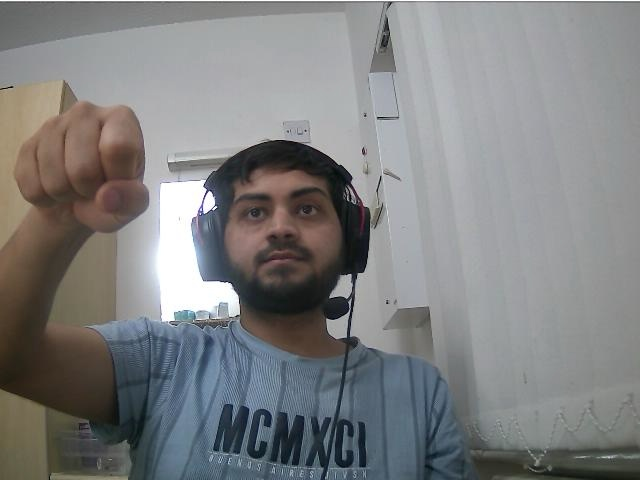hold: (13, 99, 152, 233)
